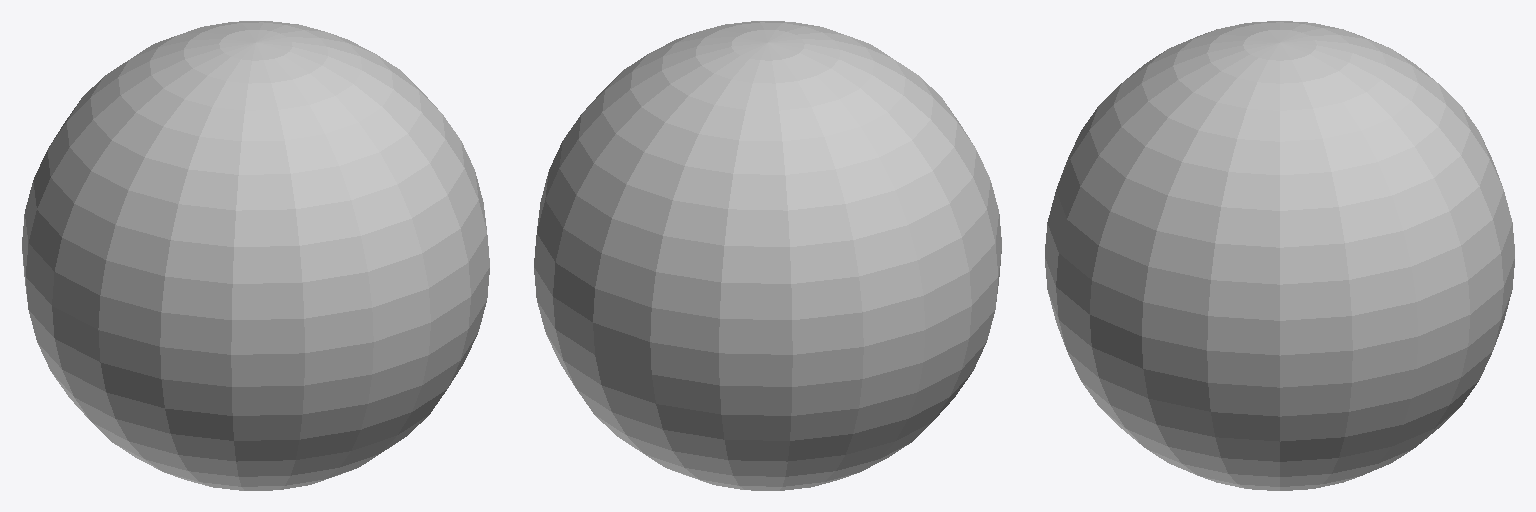
File: sphereWithMaterials.obj
3 views of the same model, side by side, from view 1: azimuth 30°, elevation 25°; view 2: azimuth 150°, elevation 25°; view 3: azimuth 270°, elevation 25° (orthographic).
Bounding box in the file's own units: 0.1719 × 0.1719 × 0.172.